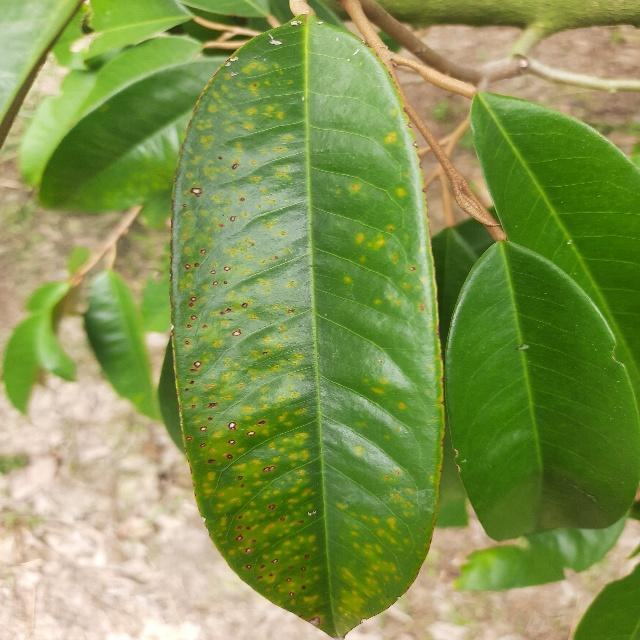Leaf Spot: (161, 13, 458, 640)
